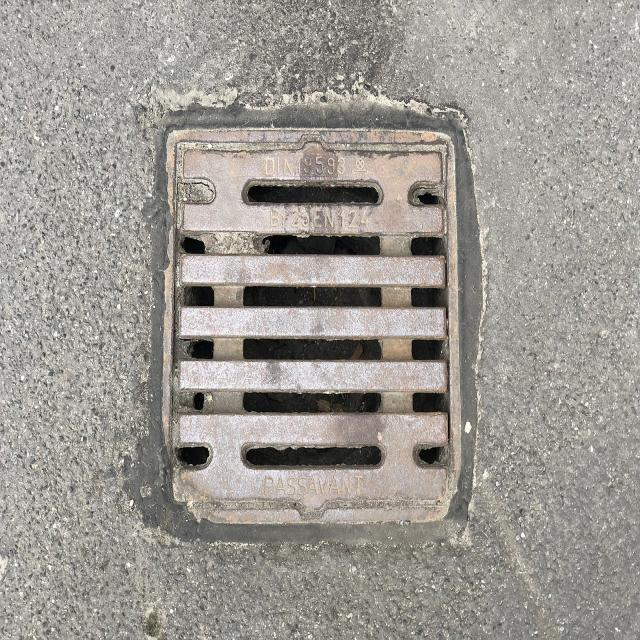manhole: (126, 95, 482, 542)
